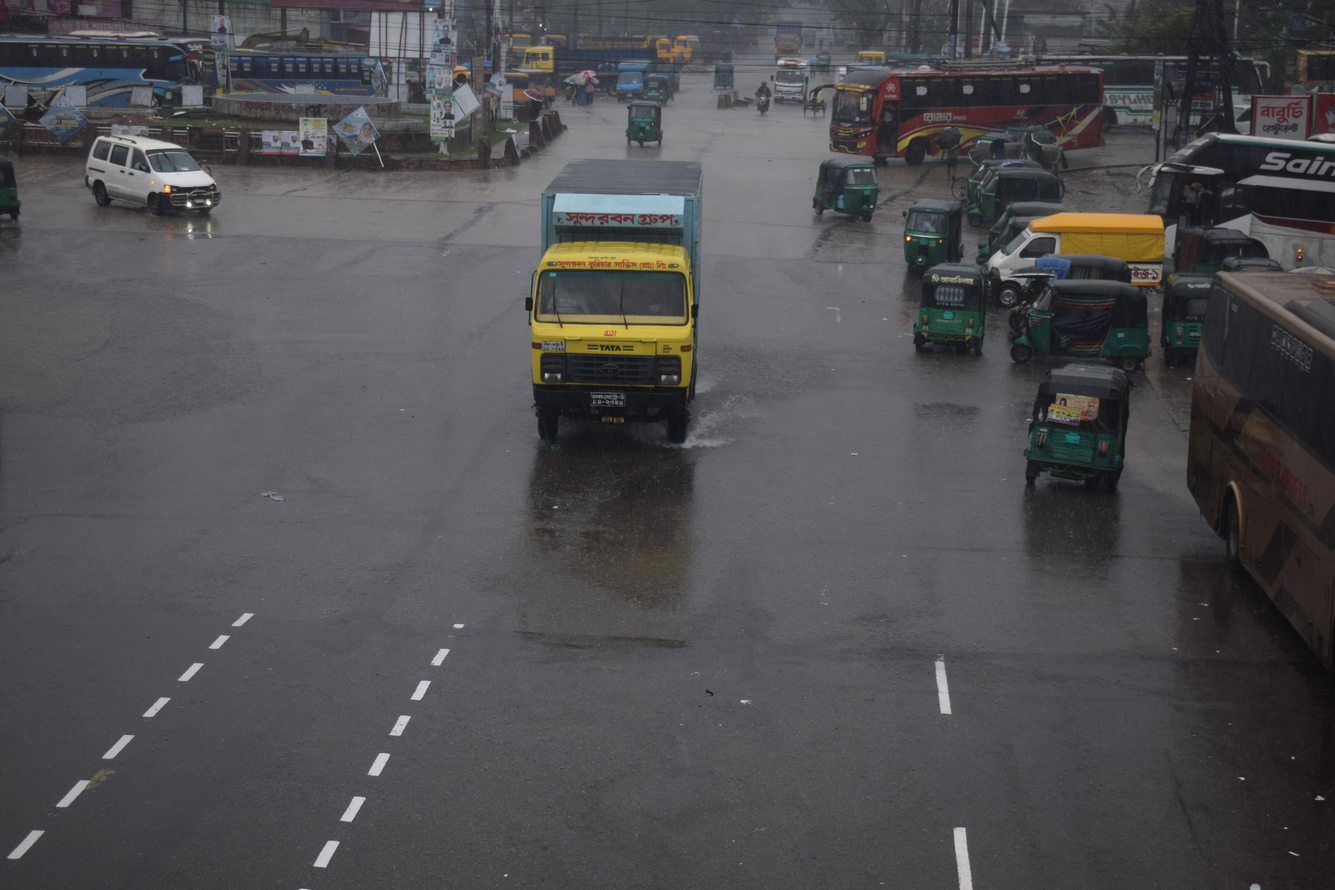Bike: (743, 69, 777, 134)
Bus: (1165, 210, 1335, 698), (793, 43, 1138, 192), (1127, 106, 1335, 271), (0, 0, 225, 145), (1017, 35, 1309, 143), (198, 22, 399, 146)
Car: (74, 115, 237, 252), (772, 43, 815, 115)
Truck: (438, 133, 777, 490), (499, 21, 652, 95)
